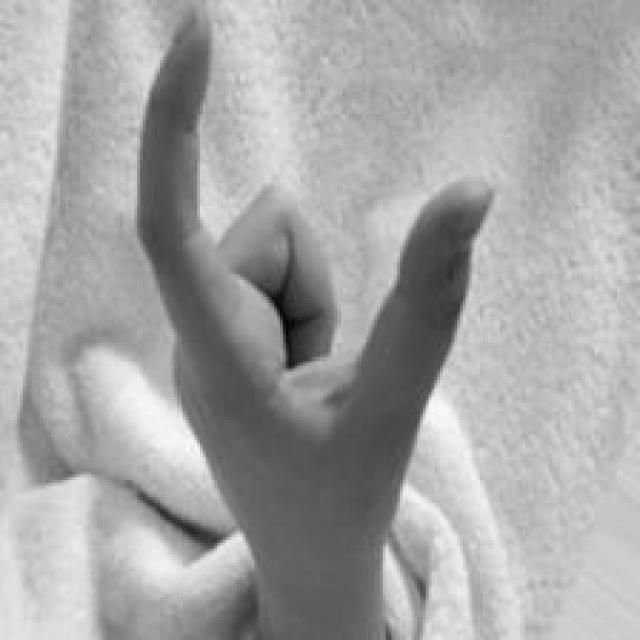U: (134, 4, 497, 537)
